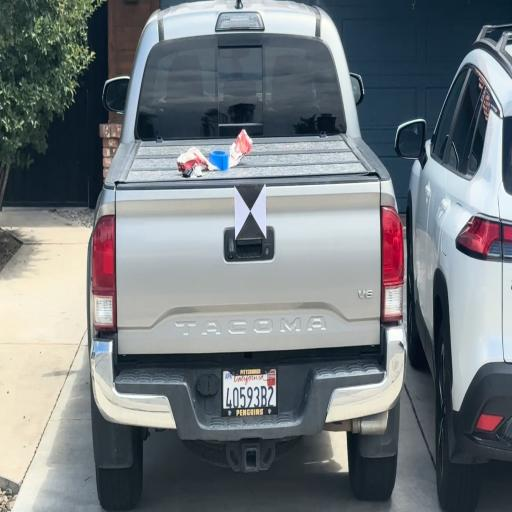target: (234, 184, 266, 238)
